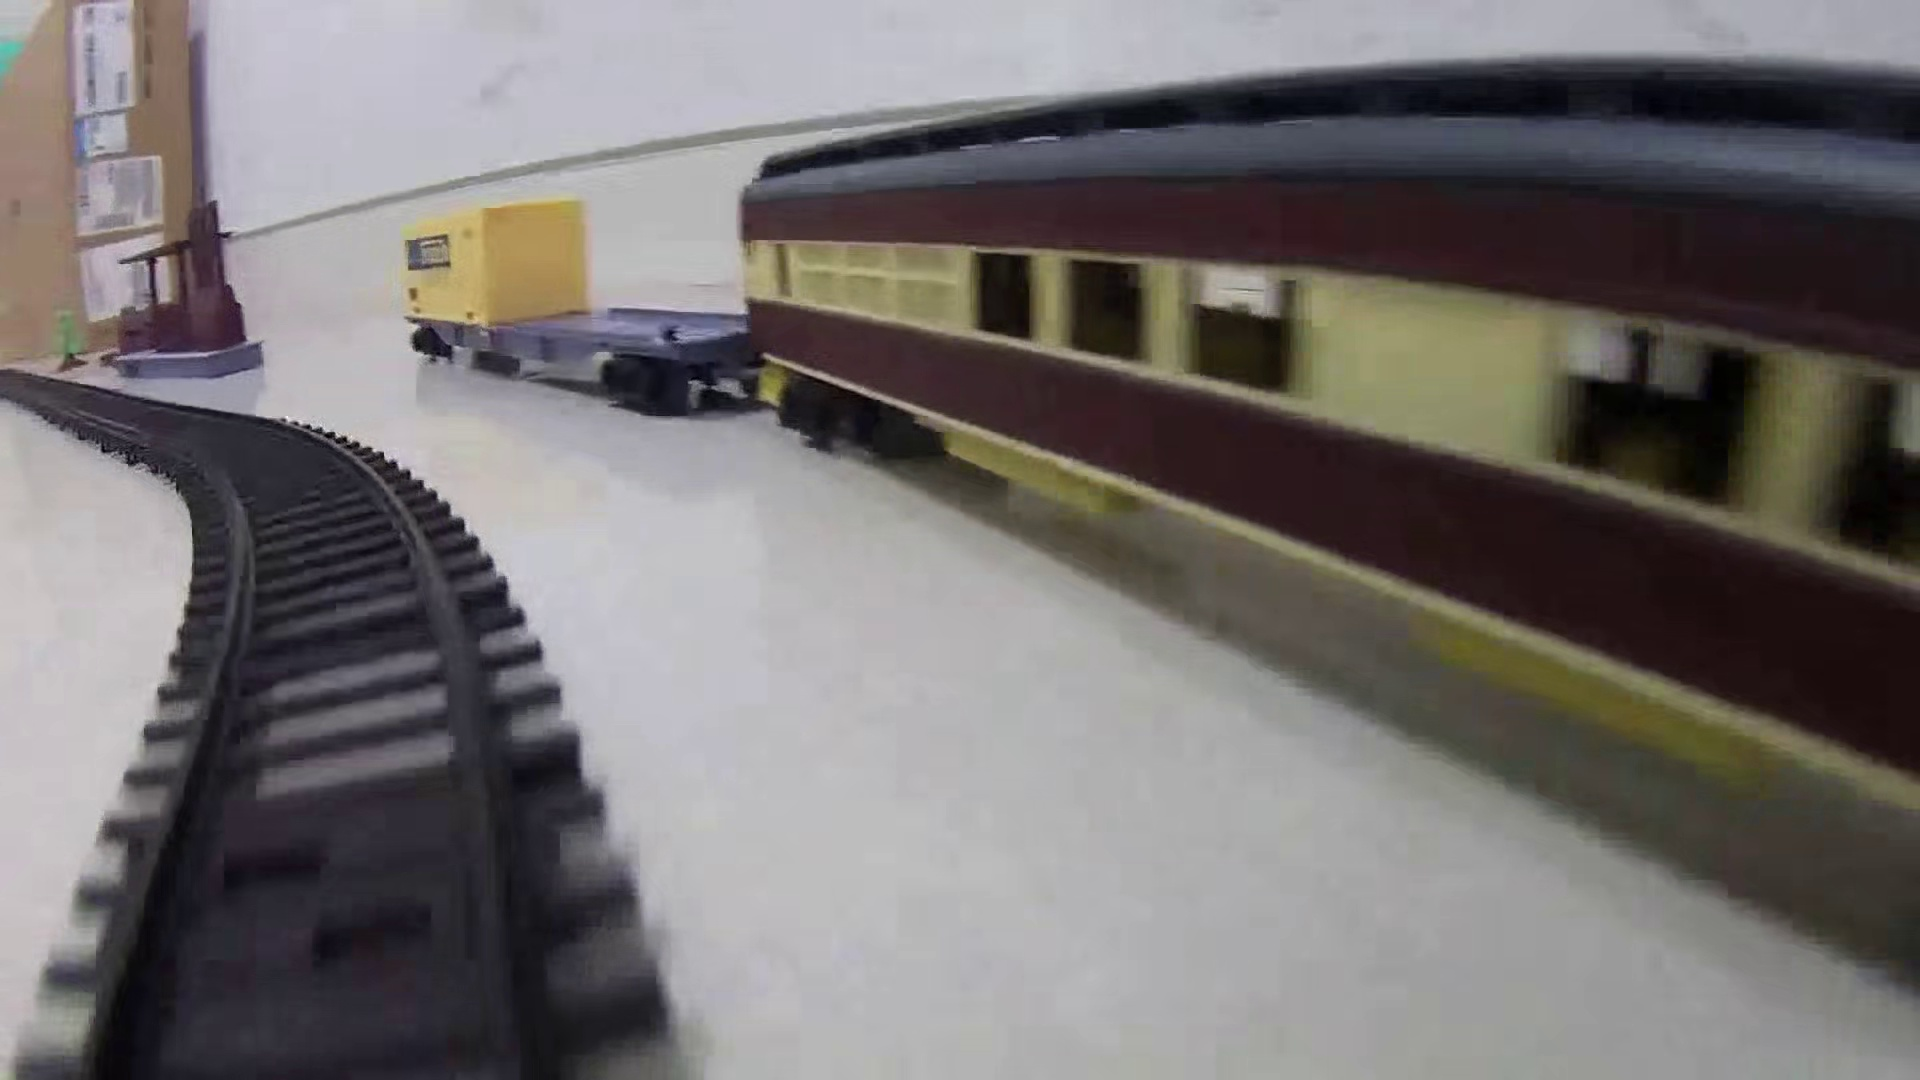tree: (46, 306, 90, 380)
